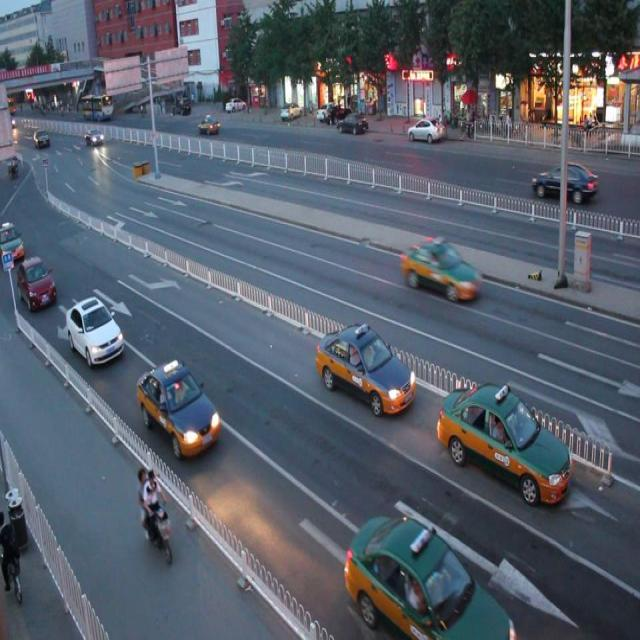car: (345, 512, 516, 640), (436, 378, 570, 503), (314, 321, 415, 414), (137, 358, 219, 457), (401, 236, 480, 303), (65, 295, 124, 365), (530, 160, 596, 206), (18, 254, 58, 310)
